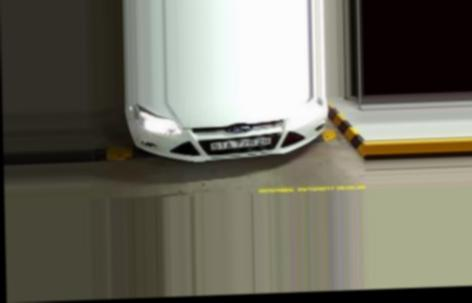License_Plate: (210, 135, 269, 152)
